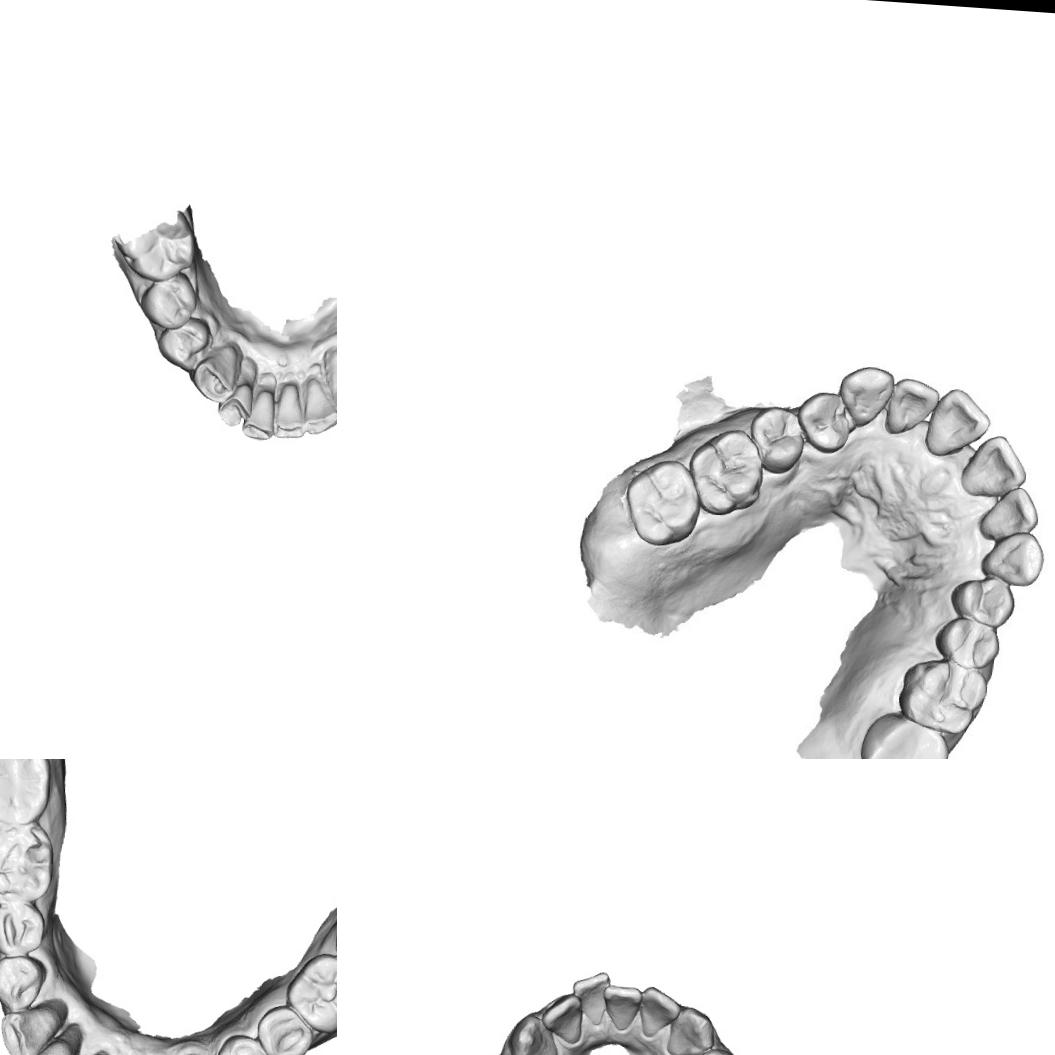canine: (974, 526, 1048, 588), (835, 359, 892, 432), (0, 999, 66, 1055), (190, 340, 241, 405), (664, 1004, 716, 1055), (506, 1011, 561, 1055), (320, 347, 337, 417)
incisor: (929, 389, 984, 451), (966, 438, 1020, 497), (637, 983, 682, 1040), (538, 990, 585, 1044), (979, 492, 1036, 536), (568, 969, 611, 1026), (890, 380, 933, 434), (600, 982, 643, 1032), (301, 377, 337, 436), (272, 382, 308, 440), (239, 386, 276, 442), (215, 380, 253, 428), (20, 1038, 72, 1055)
molar: (684, 424, 772, 519), (620, 455, 704, 550), (897, 654, 987, 733), (114, 204, 198, 284), (0, 814, 59, 906), (858, 705, 952, 759), (281, 947, 337, 1035), (0, 759, 55, 824)
premolar: (928, 610, 1002, 672), (750, 408, 808, 480), (798, 388, 856, 457), (138, 268, 198, 331), (950, 573, 1016, 627), (254, 1000, 317, 1055), (154, 314, 210, 368), (0, 898, 46, 958), (0, 953, 46, 1012), (212, 1029, 270, 1055)
